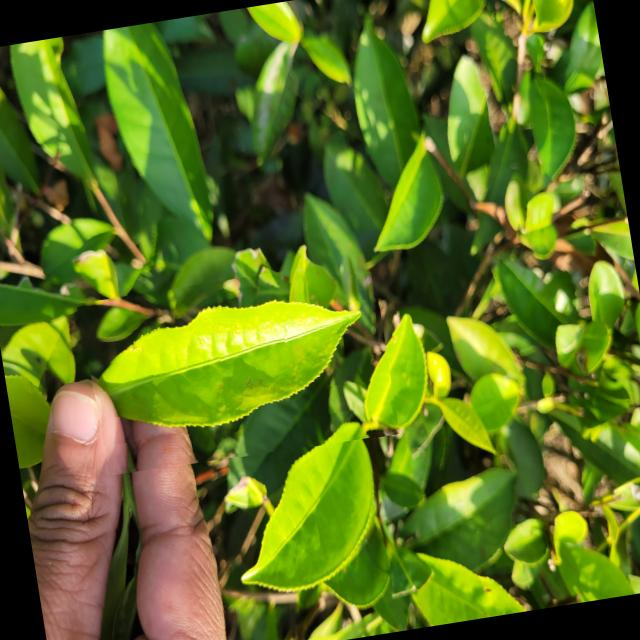Category B(2-4 days): (77, 257, 400, 481)
